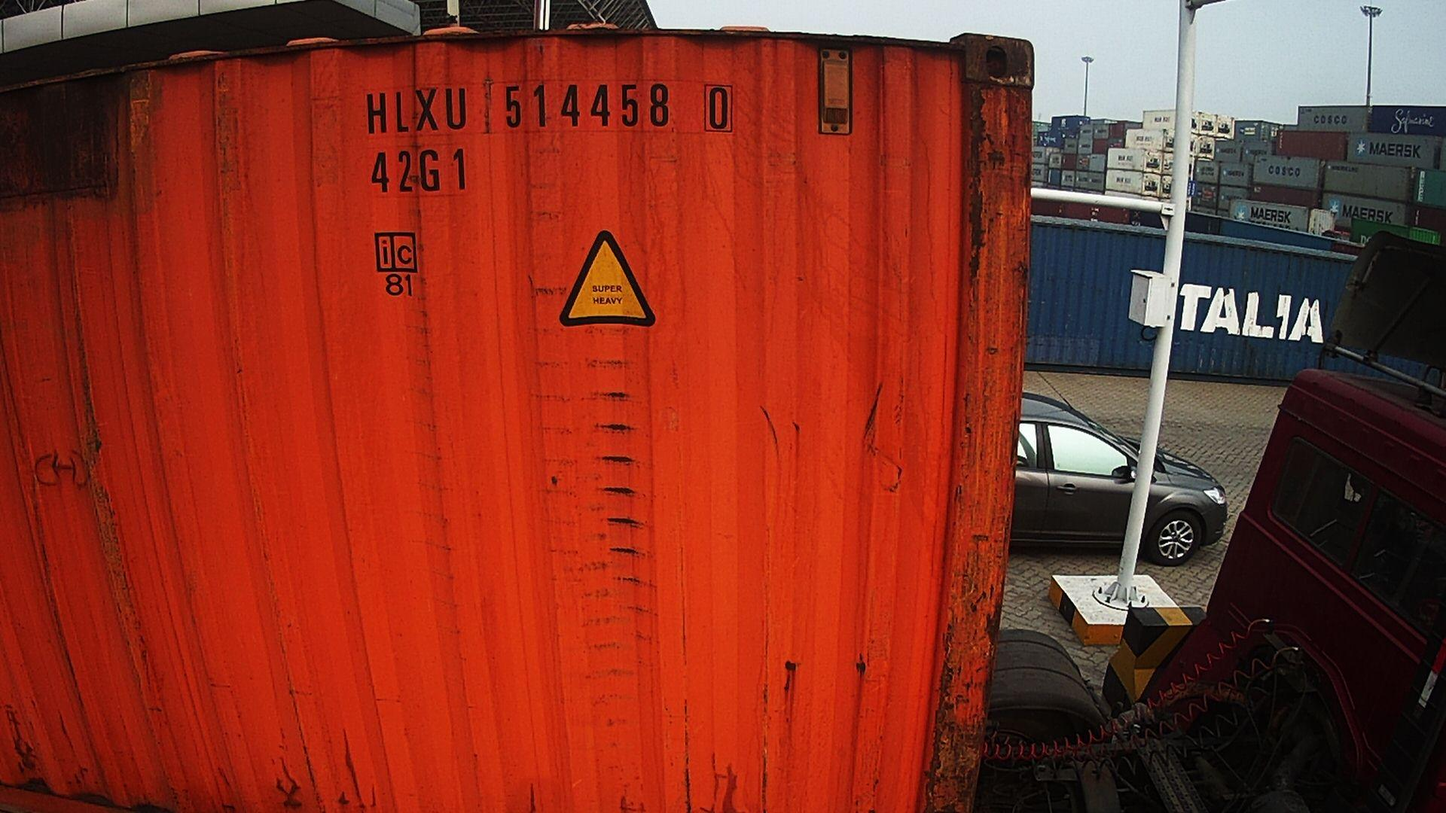container-numbers: (361, 81, 734, 140), (367, 146, 471, 196)
